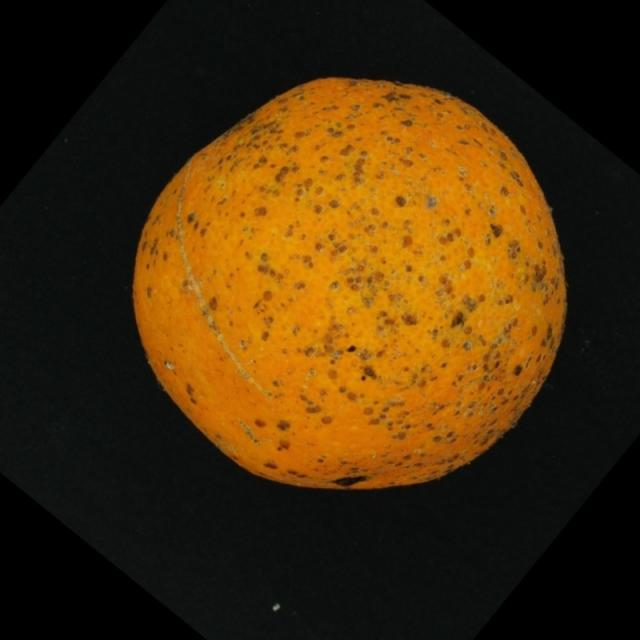grenning: (106, 64, 579, 510)
